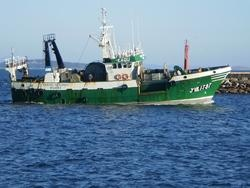otherboat: (2, 10, 232, 110)
